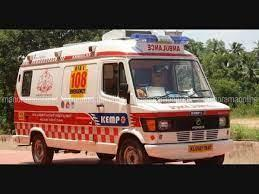ER: (14, 30, 230, 164)
